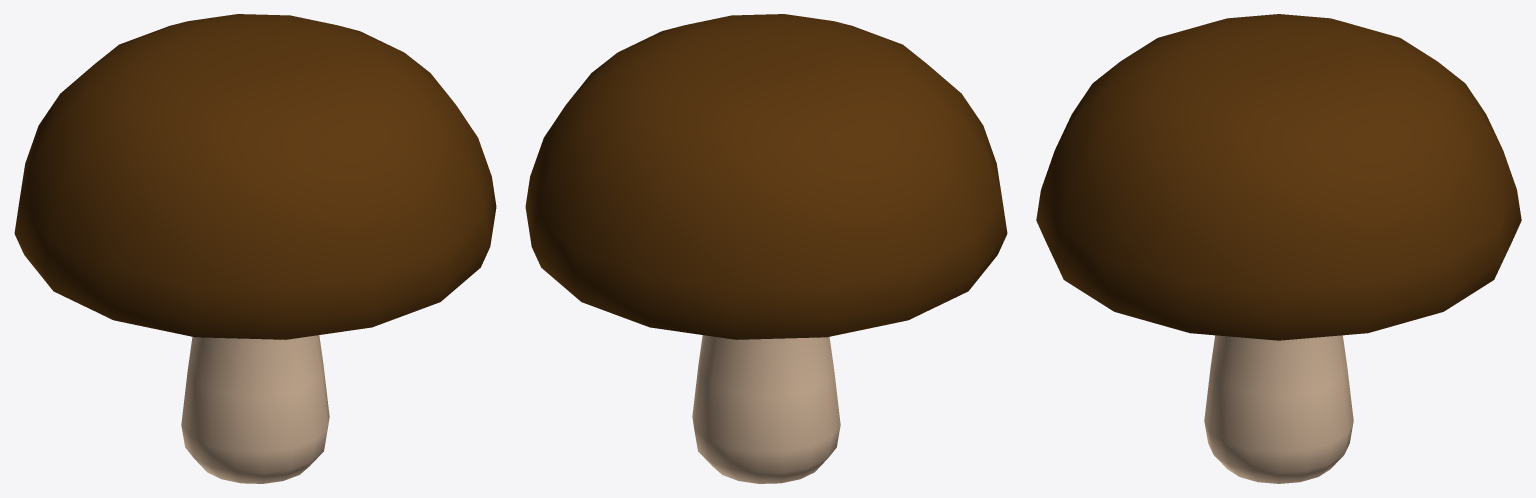
The model's file is Mushroom.fbx.
3 renders of one model, left to right at view 1: azimuth 30°, elevation 25°; view 2: azimuth 150°, elevation 25°; view 3: azimuth 270°, elevation 25°, orthographic.
Visible parts, largest first — view 1: Sphere; view 2: Sphere; view 3: Sphere.
Boxes of the visible parts, x1,y1,x2,y2 form: Sphere: (14, 14, 496, 483); Sphere: (525, 14, 1007, 483); Sphere: (1036, 14, 1521, 483).
Size of the model in its own units: 200 by 189 by 200.
